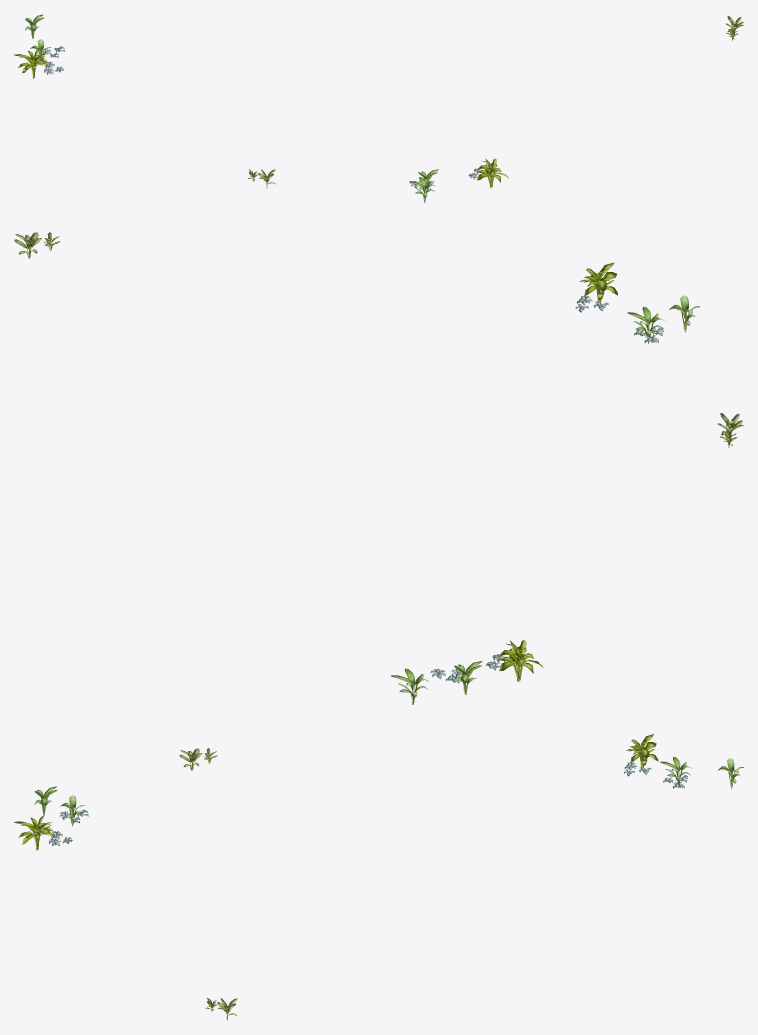
File: mesh_small_plant_all.glb
The picture shows the model from 3 angles, top to bottom: view 1: azimuth 30°, elevation 25°; view 2: azimuth 150°, elevation 25°; view 3: azimuth 270°, elevation 25°; orthographic projection. The views are drawn at different scales.
Parts seen in each view (by area): view 1: mesh_small_plant_3_tut, mesh_small_plant_4_tut, mesh_small_plant_5_tut, mesh_small_plant_2_tut; view 2: mesh_small_plant_4_tut, mesh_small_plant_3_tut, mesh_small_plant_5_tut, mesh_small_plant_2_tut; view 3: mesh_small_plant_3_tut, mesh_small_plant_4_tut, mesh_small_plant_2_tut, mesh_small_plant_5_tut.
Boxes of the visible parts, x1,y1,x2,y2 form: mesh_small_plant_3_tut: (14,48,508,187); mesh_small_plant_4_tut: (25,14,438,202); mesh_small_plant_5_tut: (247,16,743,188); mesh_small_plant_2_tut: (42,46,488,190); mesh_small_plant_4_tut: (391,295,699,704); mesh_small_plant_3_tut: (497,262,617,681); mesh_small_plant_5_tut: (14,232,743,447); mesh_small_plant_2_tut: (430,295,663,683); mesh_small_plant_3_tut: (14,734,658,850); mesh_small_plant_4_tut: (34,757,743,826); mesh_small_plant_2_tut: (49,762,687,846); mesh_small_plant_5_tut: (179,748,237,1020).
Size of the model in its own units: 12.1 by 1.37 by 11.85.
Materials: 1 (1 with a texture image).
